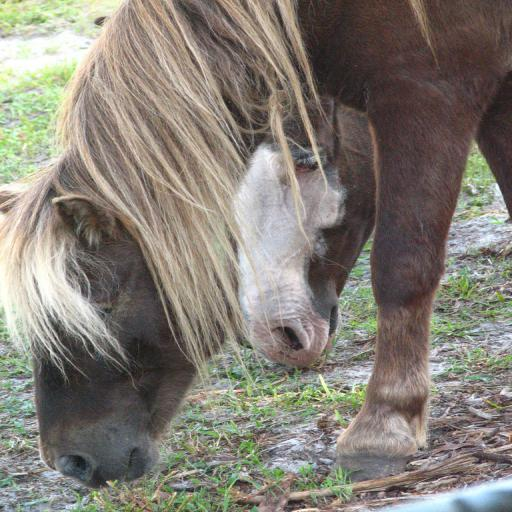horse: (0, 0, 512, 490), (206, 76, 380, 374)
